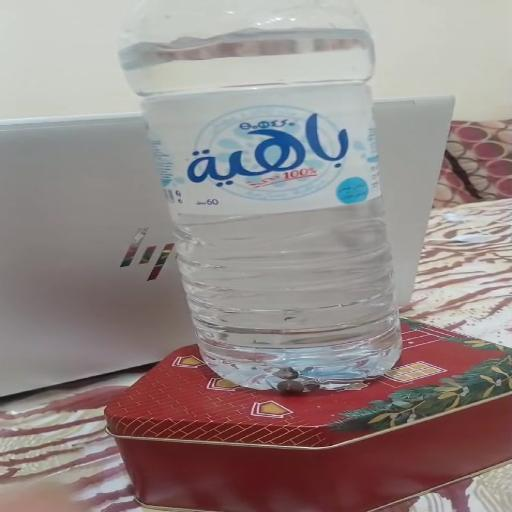bouteille conformite: (128, 8, 420, 387)
